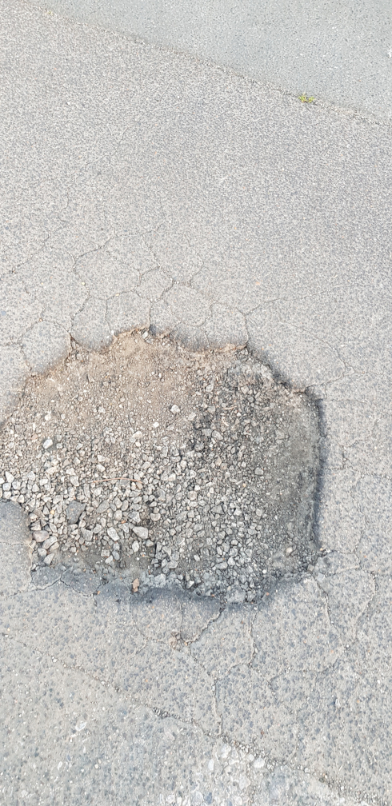pothole: (0, 315, 336, 613)
